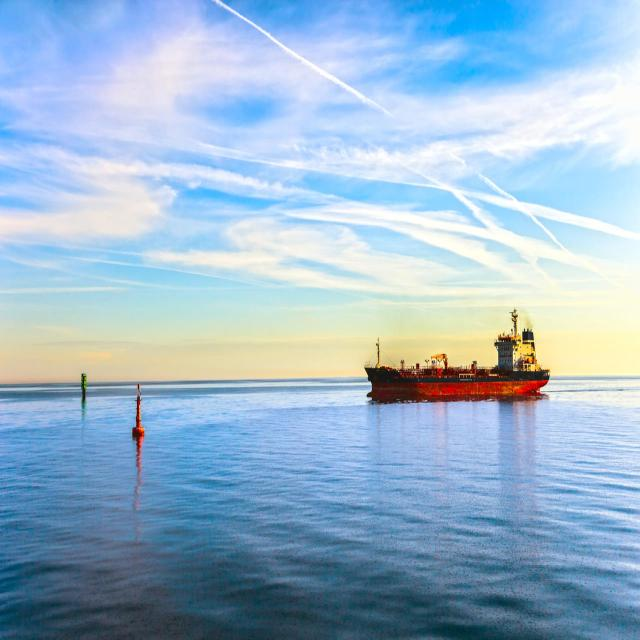buoy: (129, 384, 148, 442), (78, 372, 90, 400)
cargoship: (357, 304, 552, 405)
